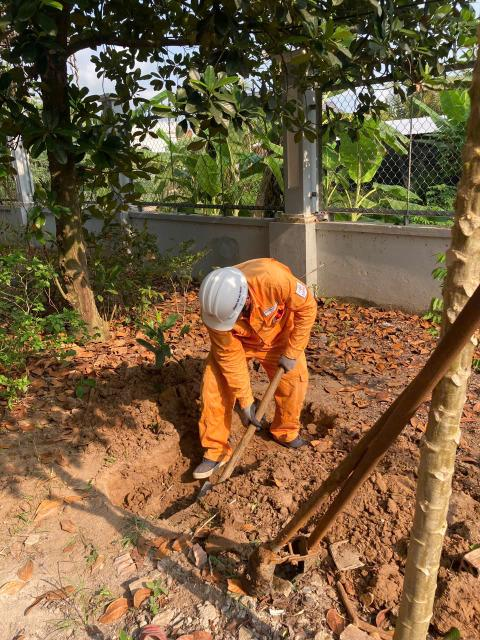gloves: (233, 391, 266, 429), (269, 346, 299, 379)
helmet: (189, 268, 250, 328)
shoes: (174, 442, 238, 486), (278, 428, 315, 457)
